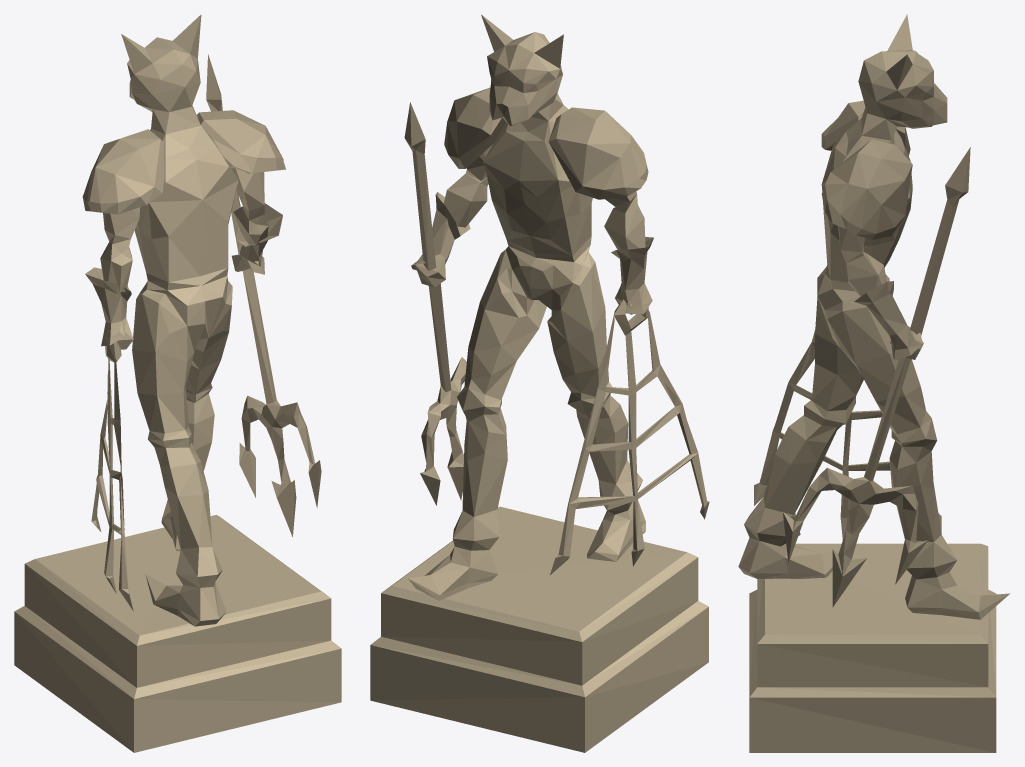
The model's file is dstatue4.fbx.
The picture shows the model from 3 angles, left to right: view 1: azimuth 30°, elevation 25°; view 2: azimuth 150°, elevation 25°; view 3: azimuth 270°, elevation 25°; orthographic projection. The views are drawn at different scales.
Parts seen in each view (by area): view 1: Object Statue 2024-03-15_18-58-26; view 2: Object Statue 2024-03-15_18-58-26; view 3: Object Statue 2024-03-15_18-58-26.
Boxes of the visible parts, x1,y1,x2,y2 form: Object Statue 2024-03-15_18-58-26: (14, 14, 341, 752); Object Statue 2024-03-15_18-58-26: (370, 14, 709, 752); Object Statue 2024-03-15_18-58-26: (738, 14, 1010, 752).
Bounding box in the file's own units: 22900 × 66200 × 24500.
